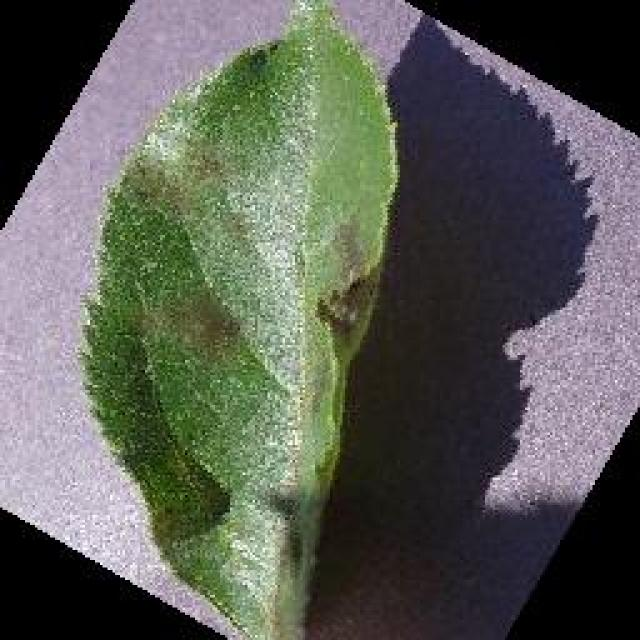apple scab disease: (75, 0, 403, 638)
